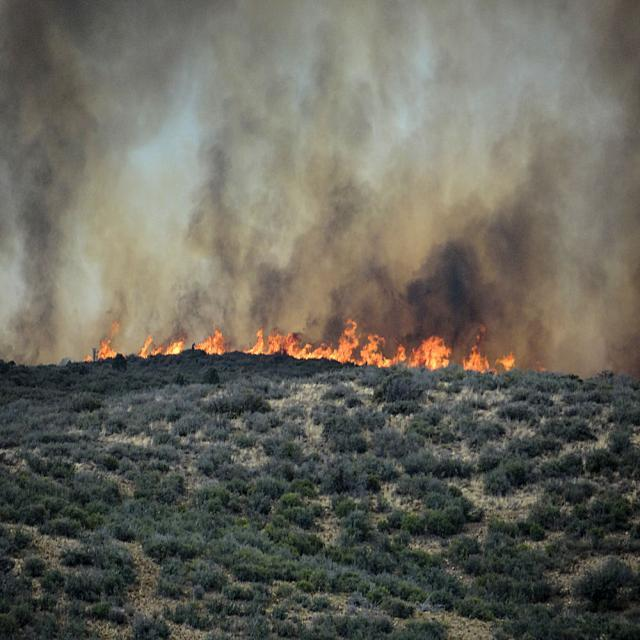Fire: (201, 301, 518, 390), (122, 320, 230, 372), (74, 312, 157, 368)
Smoke: (20, 6, 608, 266), (526, 94, 640, 361), (5, 106, 58, 372)
